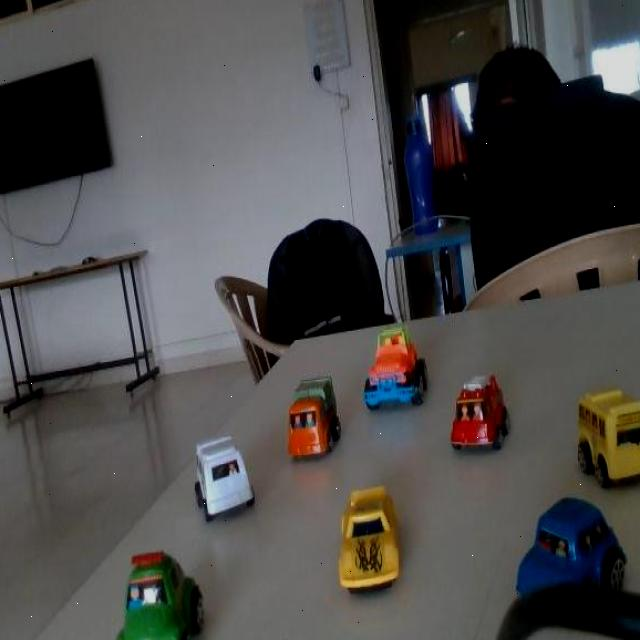car: (41, 508, 244, 640), (280, 474, 443, 623), (157, 410, 270, 548), (512, 504, 599, 619), (358, 310, 440, 415), (274, 359, 342, 479), (441, 377, 504, 468), (564, 400, 634, 480)
